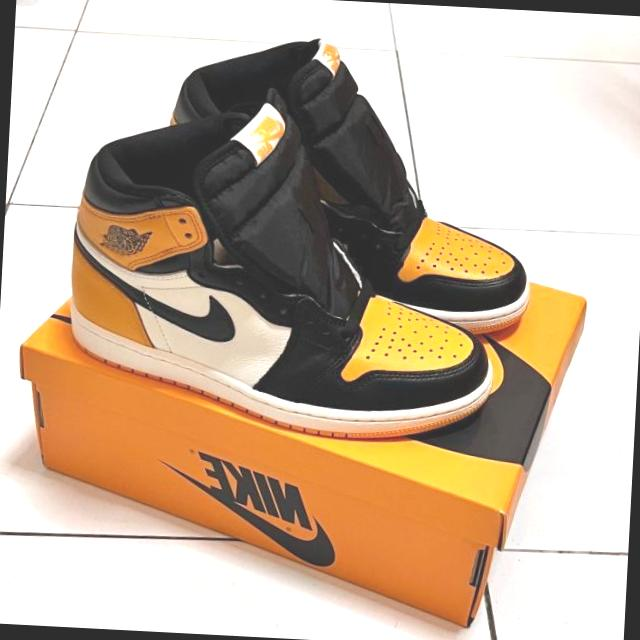nike_original_jordan: (58, 88, 512, 451), (153, 28, 557, 331)
